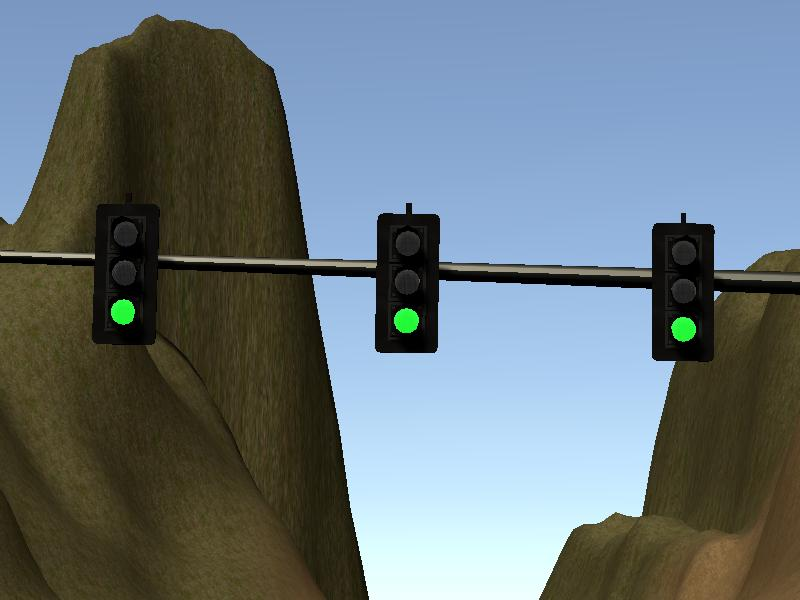Green: (653, 224, 712, 362), (95, 205, 153, 343), (379, 216, 436, 351)
